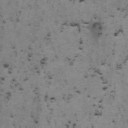oxide scale of temperature system: (0, 0, 128, 128), (2, 16, 20, 24), (46, 32, 51, 37)
